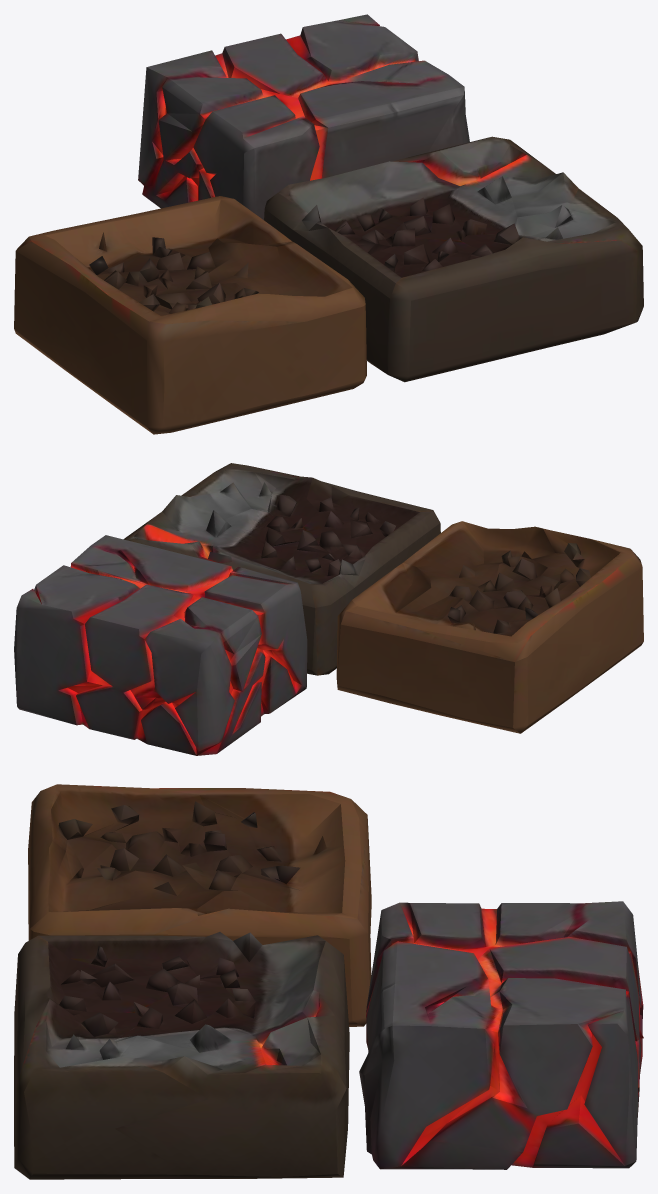
Rendered from m2SoilBlockSet.glb.
The picture shows the model from 3 angles, top to bottom: view 1: azimuth 30°, elevation 25°; view 2: azimuth 150°, elevation 25°; view 3: azimuth 270°, elevation 25°; orthographic projection. The views are drawn at different scales.
Parts seen in each view (by area): view 1: model; view 2: model; view 3: model.
Boxes of the visible parts, x1=… form: model: x1=14, y1=14, x2=643, y2=434; model: x1=14, y1=463, x2=643, y2=755; model: x1=14, y1=784, x2=643, y2=1179.
Bounding box in the file's own units: 1.9 × 0.4671 × 1.81.
1 material, 1 textured.
